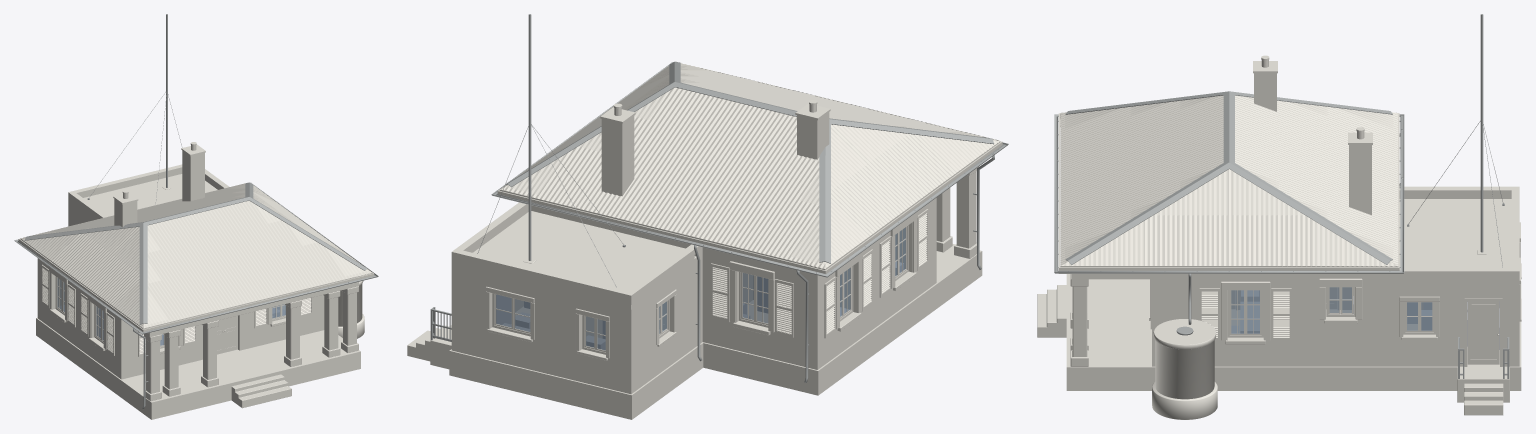
The model's file is la_pointe_H01.glb.
3 renders of one model, left to right at view 1: azimuth 30°, elevation 25°; view 2: azimuth 150°, elevation 25°; view 3: azimuth 270°, elevation 25°, orthographic. The views are drawn at different scales.
Visible parts, largest first — view 1: roof_steel_bluegrey, render_spalled_old, basalt_dressed, basalt_masonry, flagstone, galvanized_steel, concrete_cast, new_timber_black_paint, aluminium_weathered, painted_timber_warmgrey, white_peeling_timber, glass (+1 smaller); view 2: roof_steel_bluegrey, render_spalled_old, basalt_masonry, concrete_cast, basalt_dressed, galvanized_steel, new_timber_black_paint, aluminium_weathered, glass, white_peeling_timber, painted_timber_warmgrey, plaster_white (+2 smaller); view 3: roof_steel_bluegrey, render_spalled_old, concrete_cast, basalt_masonry, galvanized_steel, flagstone, basalt_dressed, aluminium_weathered, new_timber_black_paint, painted_timber_warmgrey, glass, DoorLeaf_08_R_in (+3 smaller).
Boxes of the visible parts, bbox=[...] form: roof_steel_bluegrey: bbox=[20, 183, 372, 329]; render_spalled_old: bbox=[37, 144, 324, 379]; basalt_dressed: bbox=[49, 266, 358, 408]; basalt_masonry: bbox=[36, 314, 364, 419]; flagstone: bbox=[120, 330, 360, 404]; galvanized_steel: bbox=[24, 14, 367, 324]; concrete_cast: bbox=[68, 174, 363, 326]; new_timber_black_paint: bbox=[41, 264, 312, 356]; aluminium_weathered: bbox=[14, 182, 378, 408]; painted_timber_warmgrey: bbox=[18, 187, 374, 331]; white_peeling_timber: bbox=[55, 276, 285, 348]; glass: bbox=[57, 278, 285, 345]; roof_steel_bluegrey: bbox=[499, 61, 1000, 270]; render_spalled_old: bbox=[451, 103, 936, 394]; basalt_masonry: bbox=[449, 254, 982, 419]; concrete_cast: bbox=[407, 211, 702, 369]; basalt_dressed: bbox=[729, 166, 979, 335]; galvanized_steel: bbox=[477, 14, 994, 287]; new_timber_black_paint: bbox=[711, 209, 928, 338]; aluminium_weathered: bbox=[491, 62, 1008, 382]; glass: bbox=[496, 227, 905, 350]; white_peeling_timber: bbox=[492, 225, 908, 354]; painted_timber_warmgrey: bbox=[497, 141, 1002, 273]; plaster_white: bbox=[515, 228, 904, 337]; roof_steel_bluegrey: bbox=[1060, 95, 1398, 267]; render_spalled_old: bbox=[1152, 61, 1519, 366]; concrete_cast: bbox=[1153, 199, 1521, 415]; basalt_masonry: bbox=[1066, 281, 1521, 419]; galvanized_steel: bbox=[1065, 14, 1503, 267]; flagstone: bbox=[1066, 274, 1151, 369]; basalt_dressed: bbox=[1037, 274, 1362, 366]; aluminium_weathered: bbox=[1054, 114, 1404, 324]; new_timber_black_paint: bbox=[1150, 279, 1502, 366]; painted_timber_warmgrey: bbox=[1058, 113, 1399, 309]; glass: bbox=[1231, 287, 1432, 333]; DoorLeaf_08_R_in: bbox=[1467, 301, 1499, 364].
Size of the model in its own units: 12.88 by 11.7 by 14.76.
